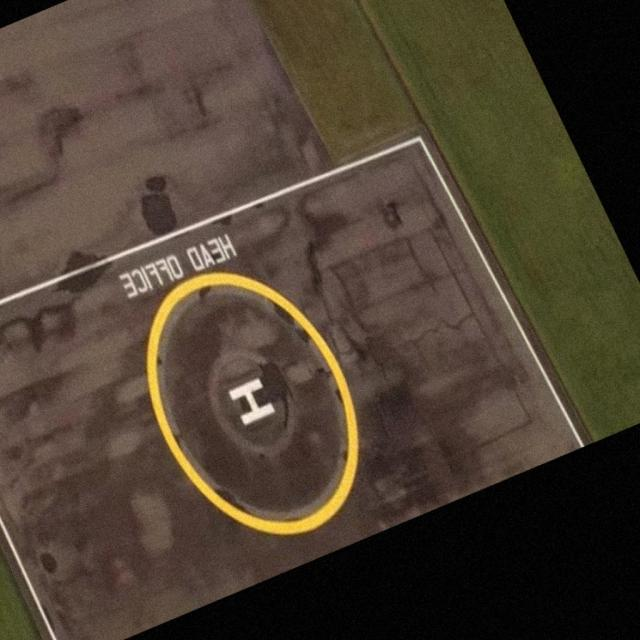helipad: (142, 269, 362, 539)
